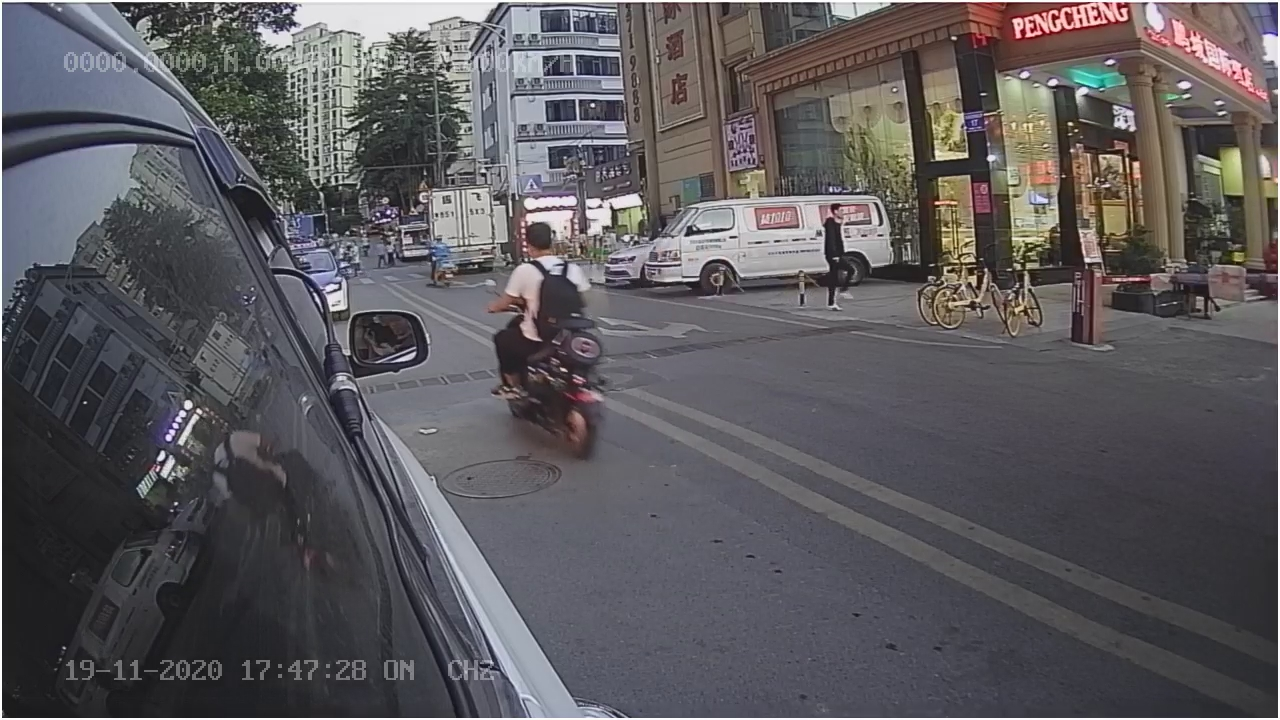person: (502, 226, 595, 357)
